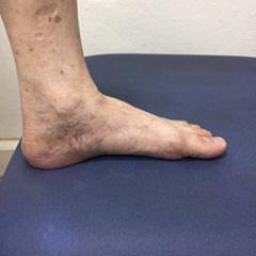Medial View -Left Foot-: (11, 68, 230, 185)
